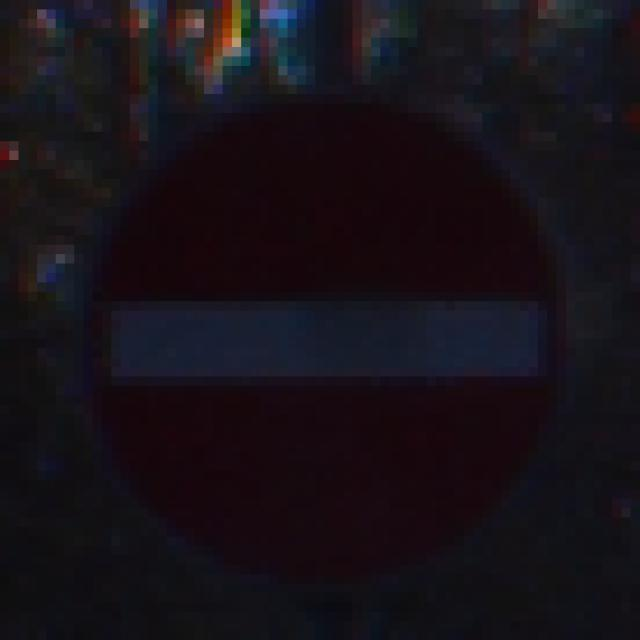No Entry: (66, 67, 585, 584)
